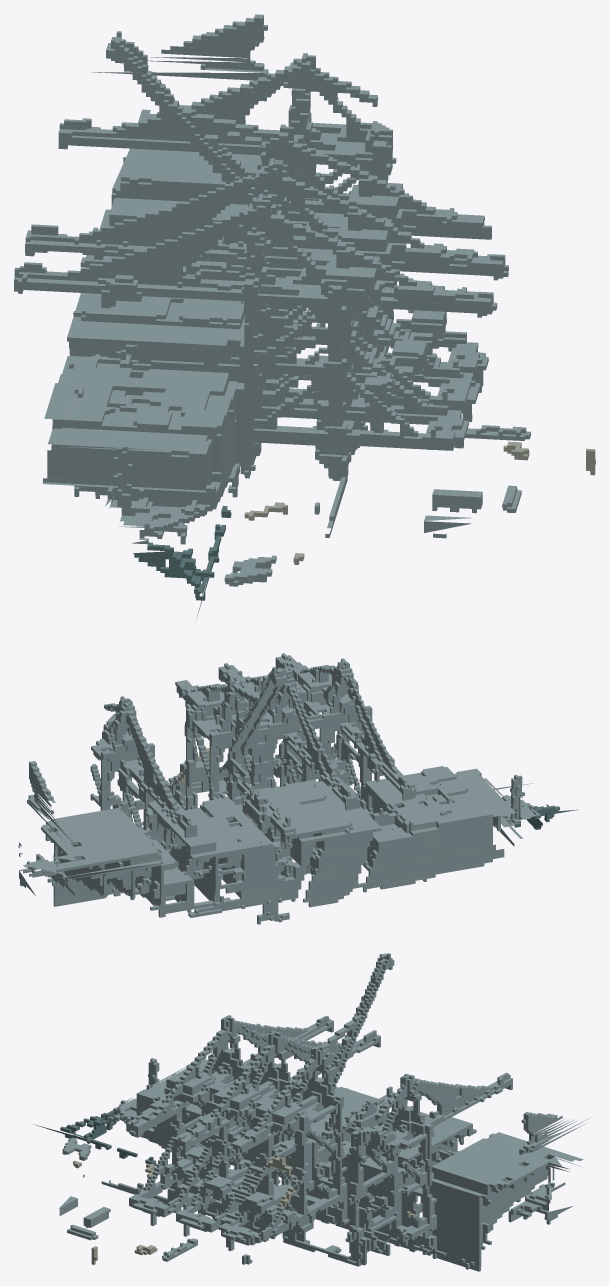
The picture shows the model from 3 angles, top to bottom: view 1: azimuth 30°, elevation 25°; view 2: azimuth 150°, elevation 25°; view 3: azimuth 270°, elevation 25°; orthographic projection. The views are drawn at different scales.
Visible parts, largest first — view 1: measured-industrial; view 2: measured-industrial; view 3: measured-industrial.
Part boxes in pixels (box(x1,y1,x2,y2)): measured-industrial: box(14, 14, 595, 618); measured-industrial: box(18, 653, 578, 924); measured-industrial: box(34, 953, 589, 1271).
Bounding box in the file's own units: 186 × 132 × 294.
